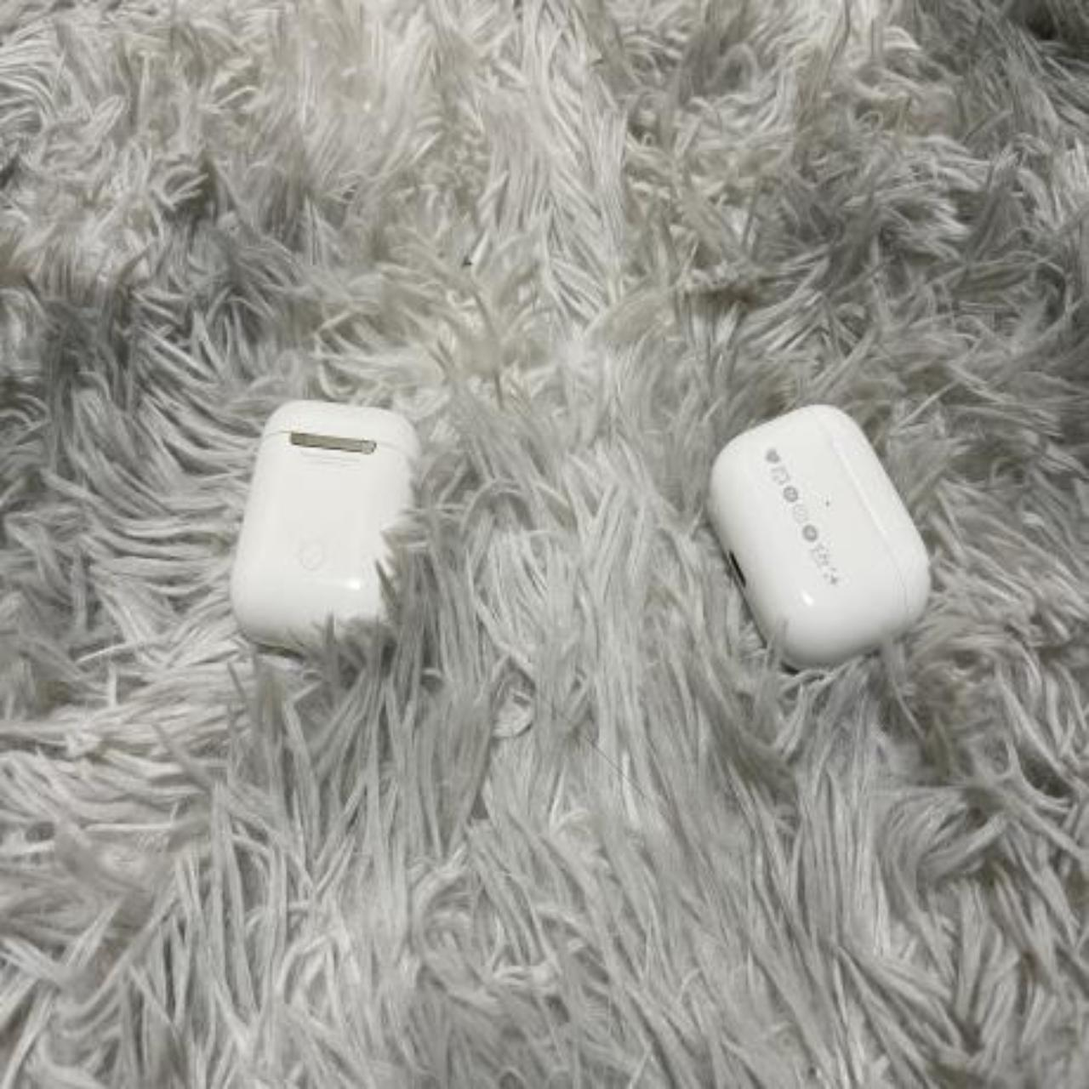AirPods: (707, 395, 932, 681), (233, 382, 419, 665)
